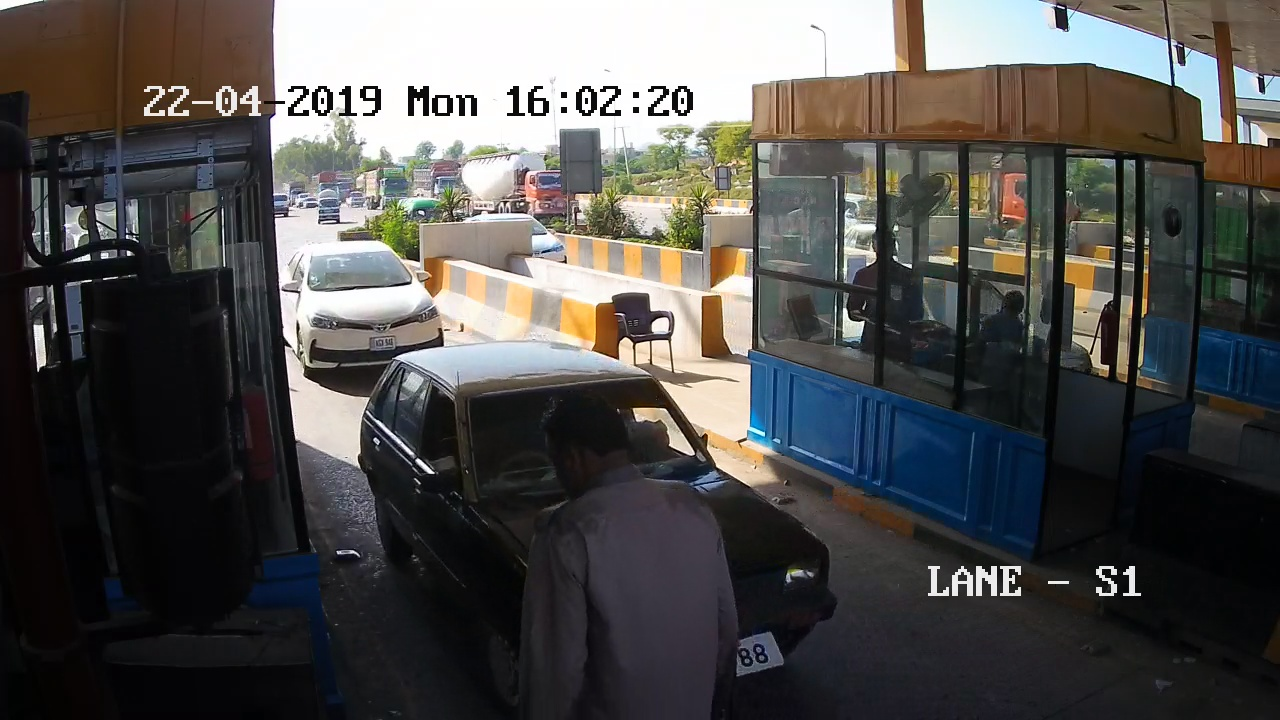car: (360, 365, 723, 500), (284, 246, 434, 337)
